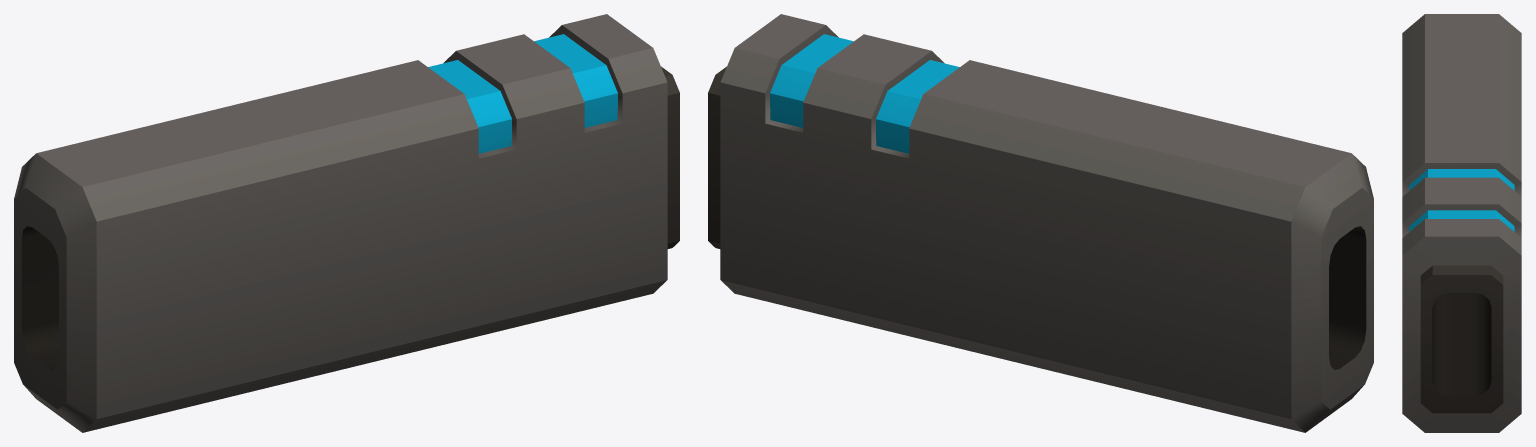
File: Muzzle_Caliber1_05.fbx
The picture shows the model from 3 angles, left to right: view 1: azimuth 30°, elevation 25°; view 2: azimuth 150°, elevation 25°; view 3: azimuth 270°, elevation 25°; orthographic projection. The views are drawn at different scales.
Visible parts, largest first — view 1: Muzzle_Caliber1_05; view 2: Muzzle_Caliber1_05; view 3: Muzzle_Caliber1_05.
Part boxes in pixels (left/top/right/bottom): Muzzle_Caliber1_05: left=14, top=14, right=679, bottom=432; Muzzle_Caliber1_05: left=708, top=14, right=1373, bottom=432; Muzzle_Caliber1_05: left=1402, top=14, right=1521, bottom=432.
Bounding box in the file's own units: 16.58 × 6.34 × 3.5.
